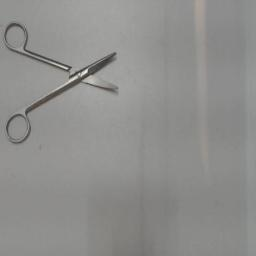Curved Mayo Scissors: (2, 16, 124, 148)
